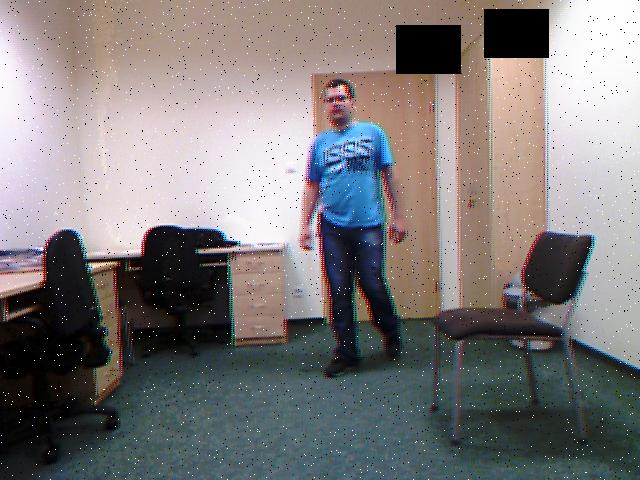walking: (292, 68, 421, 384)
